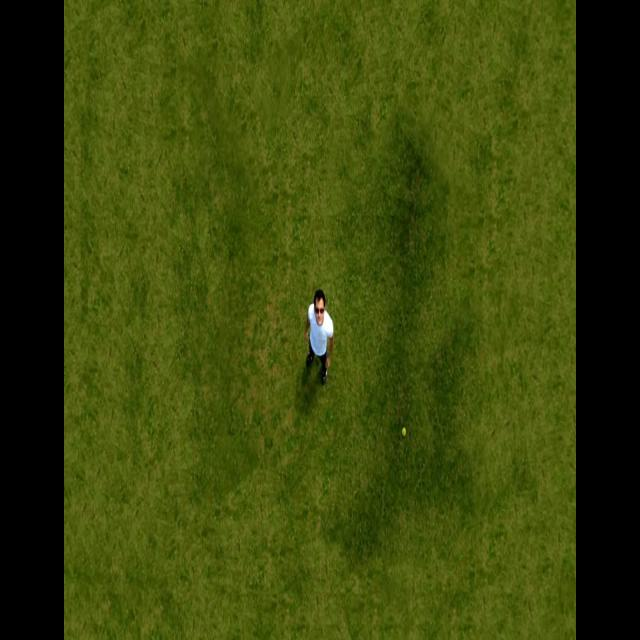humans: (305, 277, 335, 389)
